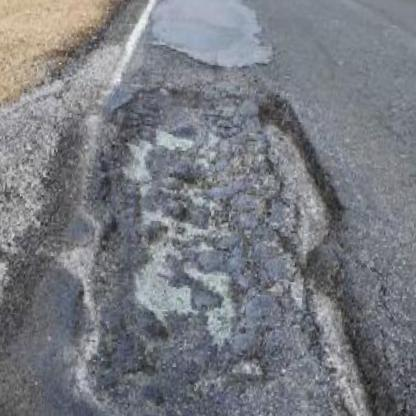pothole: (57, 75, 372, 416)
